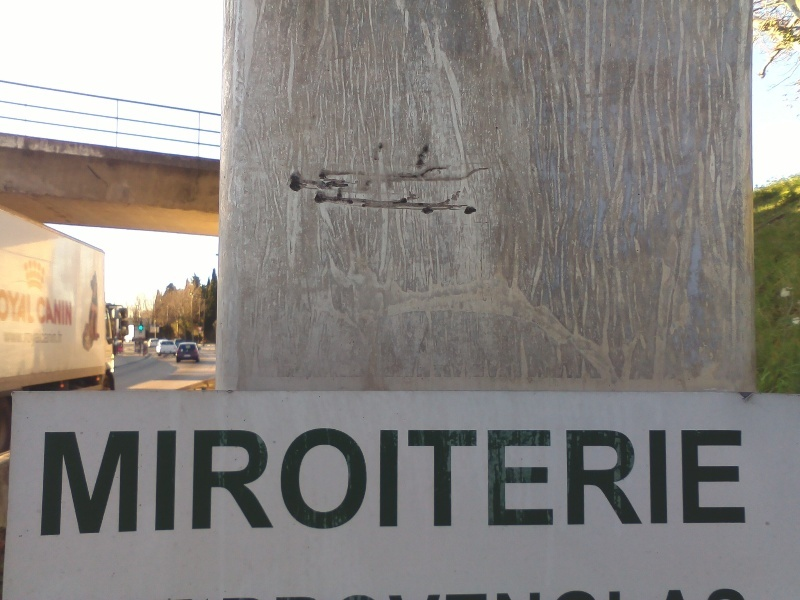text: (49, 429, 64, 537), (65, 429, 80, 537), (81, 429, 96, 537), (97, 429, 112, 537), (113, 429, 128, 537), (129, 429, 144, 537), (145, 429, 160, 537), (161, 429, 176, 537), (177, 429, 192, 537), (193, 429, 208, 537), (209, 429, 224, 537), (225, 429, 240, 537), (241, 429, 256, 537), (257, 429, 272, 537), (273, 429, 288, 537), (289, 429, 304, 537), (305, 429, 320, 537), (321, 429, 336, 537), (337, 429, 352, 537), (353, 429, 368, 537), (369, 429, 384, 537), (385, 429, 400, 537), (401, 429, 416, 537), (417, 429, 432, 537), (433, 429, 448, 537), (449, 429, 464, 537), (465, 429, 480, 537), (481, 429, 496, 537), (497, 429, 512, 537), (513, 429, 528, 537), (529, 429, 544, 537), (545, 429, 560, 537), (561, 429, 576, 537), (577, 429, 592, 537), (593, 429, 608, 537), (609, 429, 624, 537), (625, 429, 640, 537), (641, 429, 656, 537), (657, 429, 672, 537), (673, 429, 688, 537), (689, 429, 704, 537), (705, 429, 720, 537), (721, 429, 736, 537), (737, 429, 747, 537), (1, 289, 16, 324), (17, 289, 32, 324), (49, 296, 64, 327), (36, 296, 48, 327), (45, 429, 48, 537), (65, 296, 73, 327), (17, 333, 32, 343), (33, 333, 48, 343), (49, 333, 63, 343), (4, 333, 16, 343), (33, 289, 35, 324)
